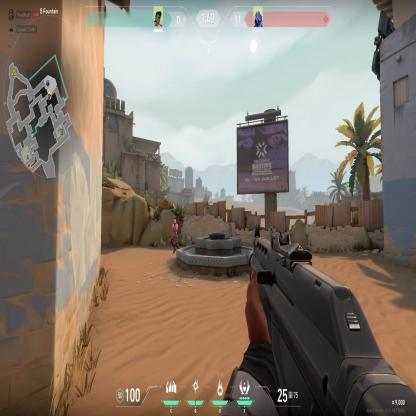enemy: (170, 217, 180, 249)
